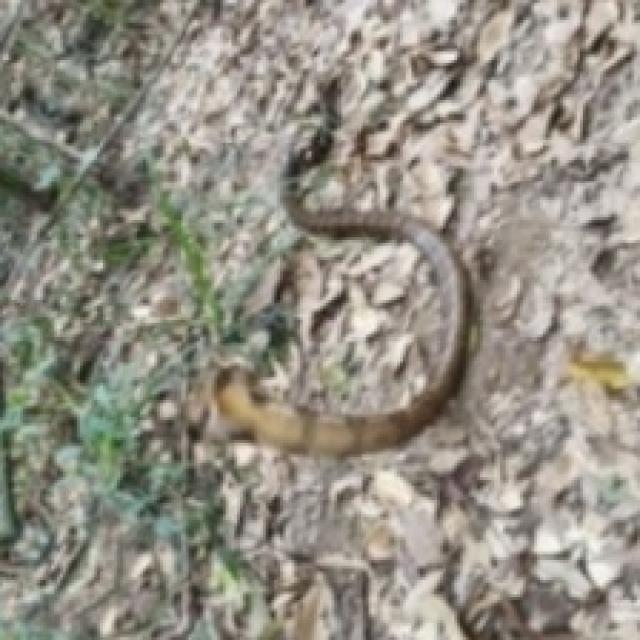king cobra: (214, 109, 466, 454)
